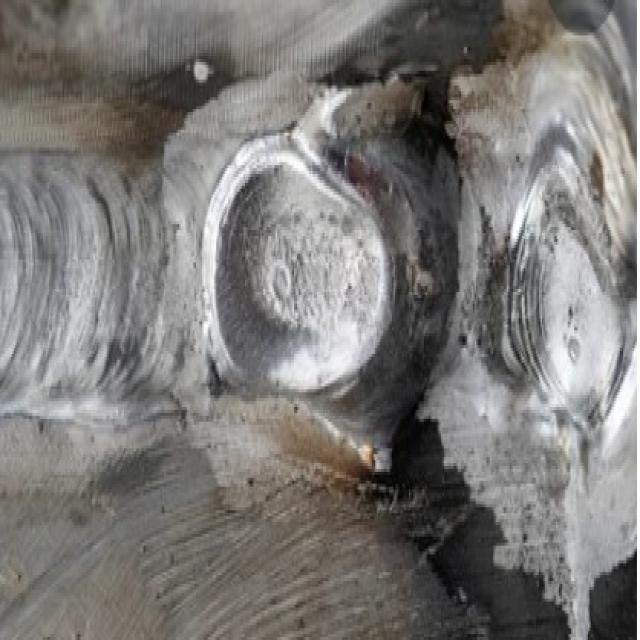Bad Welding: (7, 27, 635, 502)
